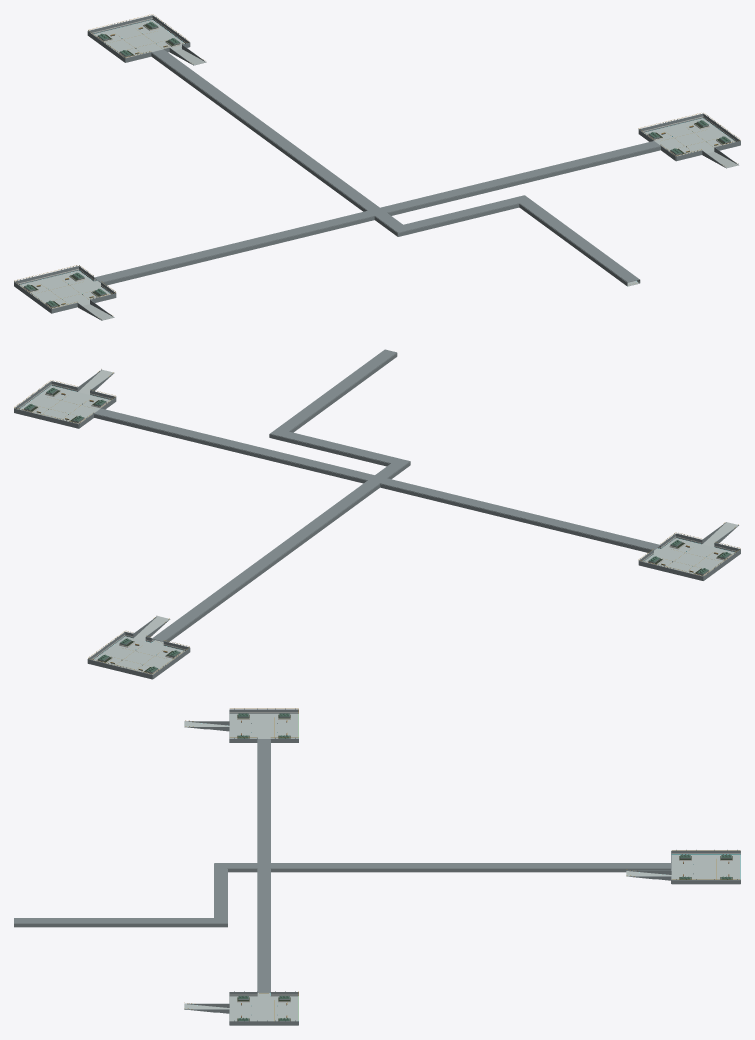
File: concourse.glb
3 renders of one model, top to bottom at view 1: azimuth 30°, elevation 25°; view 2: azimuth 150°, elevation 25°; view 3: azimuth 270°, elevation 25°, orthographic. The views are drawn at different scales.
Visible parts, largest first — view 1: Concourse-concrete, Concourse-paving, Concourse-ivory, Concourse-leaf; view 2: Concourse-concrete, Concourse-paving, Concourse-ivory; view 3: Concourse-concrete, Concourse-paving.
Boxes of the visible parts, <box> form: Concourse-concrete: <box>14,15,740,320</box>; Concourse-paving: <box>19,20,738,320</box>; Concourse-ivory: <box>18,18,737,308</box>; Concourse-leaf: <box>24,21,730,306</box>; Concourse-concrete: <box>14,349,740,679</box>; Concourse-paving: <box>19,369,737,672</box>; Concourse-ivory: <box>17,384,737,674</box>; Concourse-concrete: <box>14,709,740,1025</box>; Concourse-paving: <box>184,713,740,1021</box>.
Bounding box in the file's own units: 685 × 5.55 × 674.
